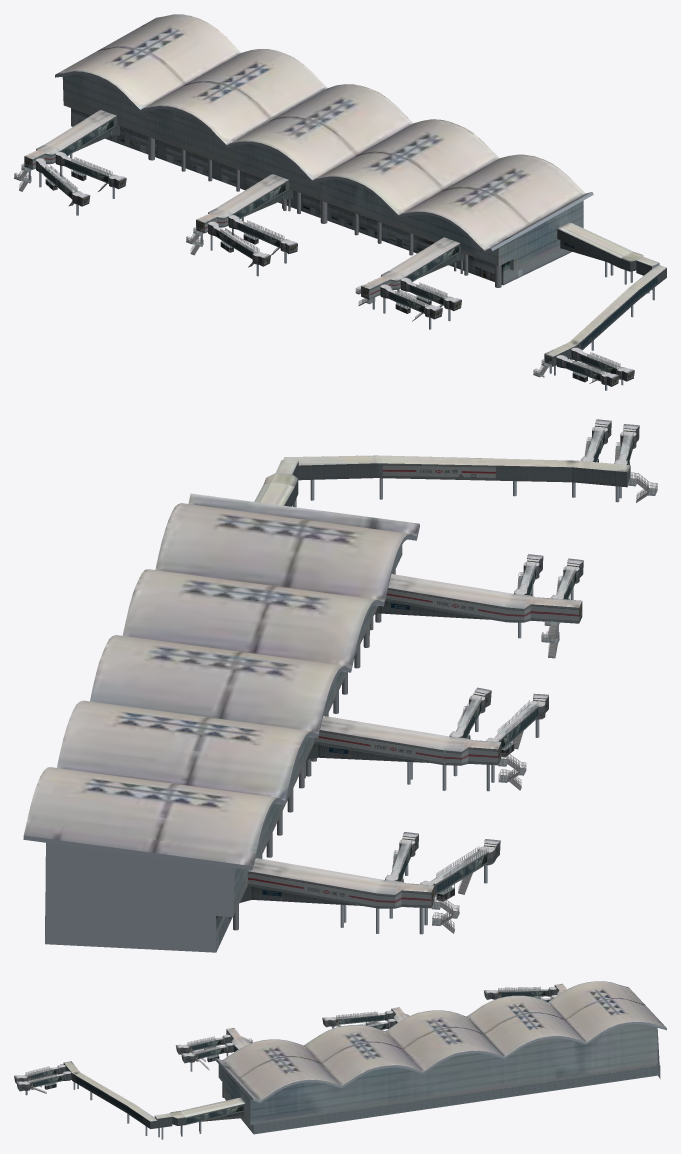
File: term-l.glb
3 renders of one model, top to bottom at view 1: azimuth 30°, elevation 25°; view 2: azimuth 150°, elevation 25°; view 3: azimuth 270°, elevation 25°, orthographic. The views are drawn at different scales.
Parts seen in each view (by area): view 1: B113701937101063A0; view 2: B113701937101063A0; view 3: B113701937101063A0.
Boxes of the visible parts, x1,y1,x2,y2 form: B113701937101063A0: [14, 14, 666, 390]; B113701937101063A0: [23, 419, 657, 952]; B113701937101063A0: [14, 981, 666, 1139].
Bounding box in the file's own units: 140 × 30.56 × 273.
Materials: 10 (9 with a texture image).
